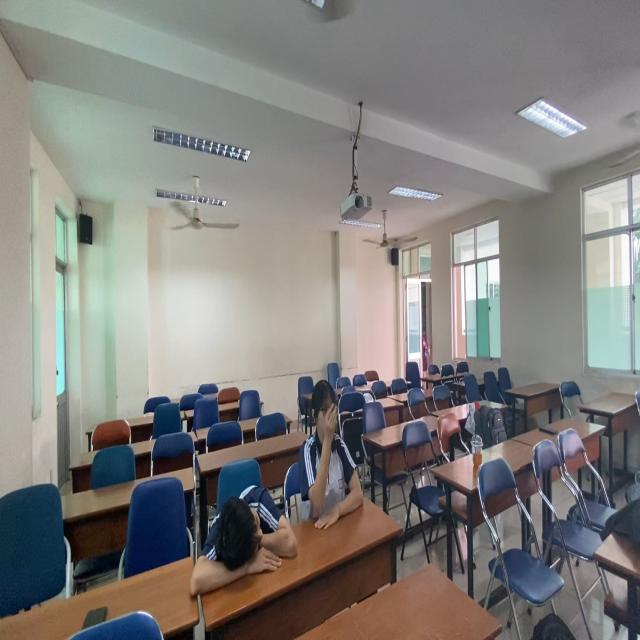raise_hand: (302, 374, 369, 534)
sleep: (177, 476, 307, 606)
